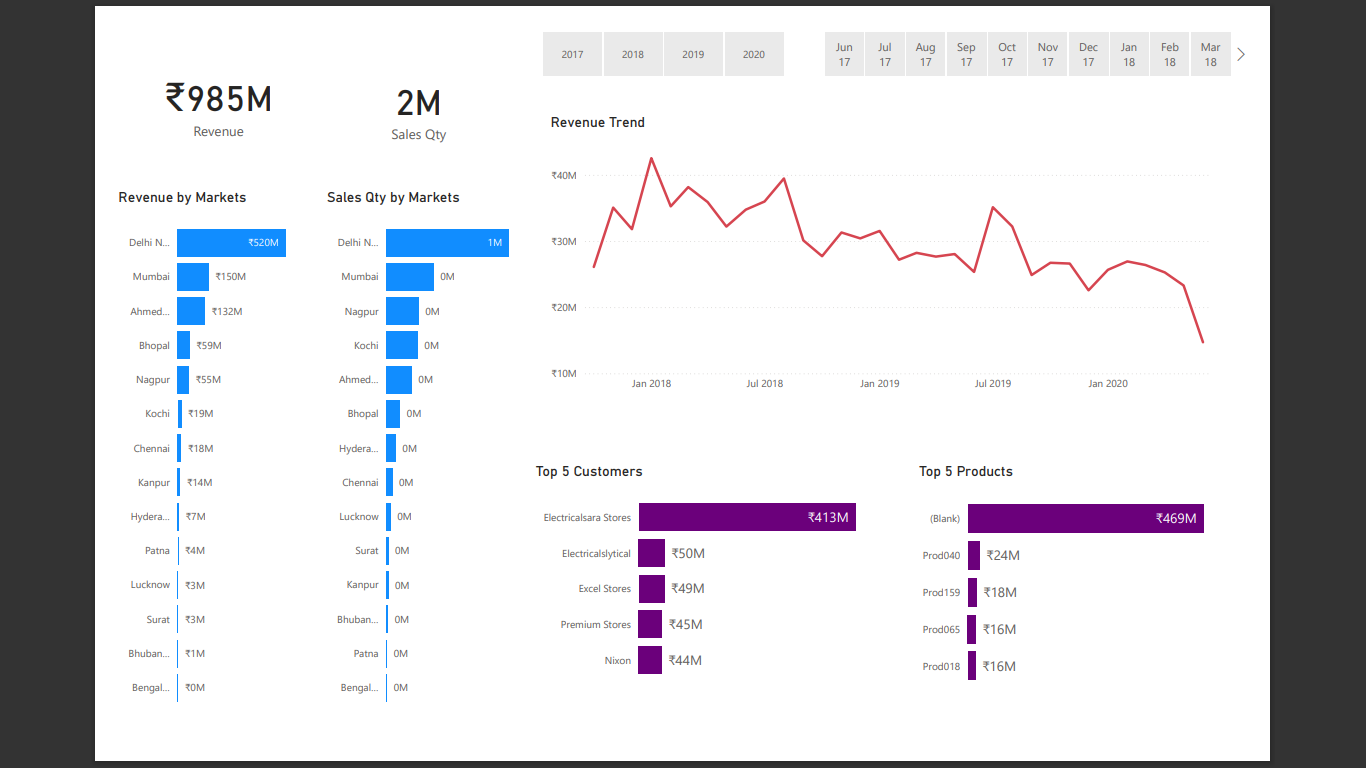

Layout of this report page (visuals, bound fields, positions):
{"tool":"powerbi","page":{"name":"Key Insights","canvas":[1350,850],"ordinal":0},"visuals":[{"type":"card","fields":{"Values":["BaseMeasures (2).Revenue"]},"box":[0,0,247.9,184.6],"z":0},{"type":"card","fields":{"Values":["BaseMeasures (2).Sales Qty"]},"box":[247.9,0,227.9,193.1],"z":1000},{"type":"barChart","title":"Revenue by Markets","fields":{"Y":["BaseMeasures (2).Revenue"],"Category":["sales markets.markets_name"]},"box":[0,193.1,247.9,631.9],"z":2000},{"type":"barChart","title":"Sales Qty by Markets","fields":{"Y":["BaseMeasures (2).Sales Qty"],"Category":["sales markets.markets_name"]},"box":[247.9,193.1,247.9,631.9],"z":3000},{"type":"slicer","fields":{"Values":["sales date.year"]},"box":[483.2,0,335.5,66.5],"z":4000},{"type":"slicer","fields":{"Values":["sales date.cy_date"]},"box":[818.6,0,531.7,66.5],"z":5000},{"type":"barChart","title":"Top 5 Customers","fields":{"Y":["BaseMeasures (2).Revenue"],"Category":["sales customers.custmer_name"]},"box":[495.8,519,446.2,274.3],"z":6000},{"type":"barChart","title":"Top 5 Products","fields":{"Y":["BaseMeasures (2).Revenue"],"Category":["sales products.product_code"]},"box":[950.7,519.2,399.5,282.8],"z":7000},{"type":"lineChart","title":"Revenue Trend","fields":{"Y":["BaseMeasures (2).Revenue"],"Category":["sales date.cy_date"]},"box":[513.8,104.4,809.1,338.6],"z":8000}]}

Visuals, with their boxes on the page's 1350x850 design canvas (x1, y1, x2, y2). These are canvas units, not pixel positions in the 1366x768 screenshot, which may show the page scaled, cropped or inside an application window:
card - BaseMeasures (2).Revenue: select_region(0, 0, 248, 185)
card - BaseMeasures (2).Sales Qty: select_region(248, 0, 476, 193)
"Revenue by Markets" barChart: select_region(0, 193, 248, 825)
"Sales Qty by Markets" barChart: select_region(248, 193, 496, 825)
slicer - sales date.year: select_region(483, 0, 819, 66)
slicer - sales date.cy_date: select_region(819, 0, 1350, 66)
"Top 5 Customers" barChart: select_region(496, 519, 942, 793)
"Top 5 Products" barChart: select_region(951, 519, 1350, 802)
"Revenue Trend" lineChart: select_region(514, 104, 1323, 443)
